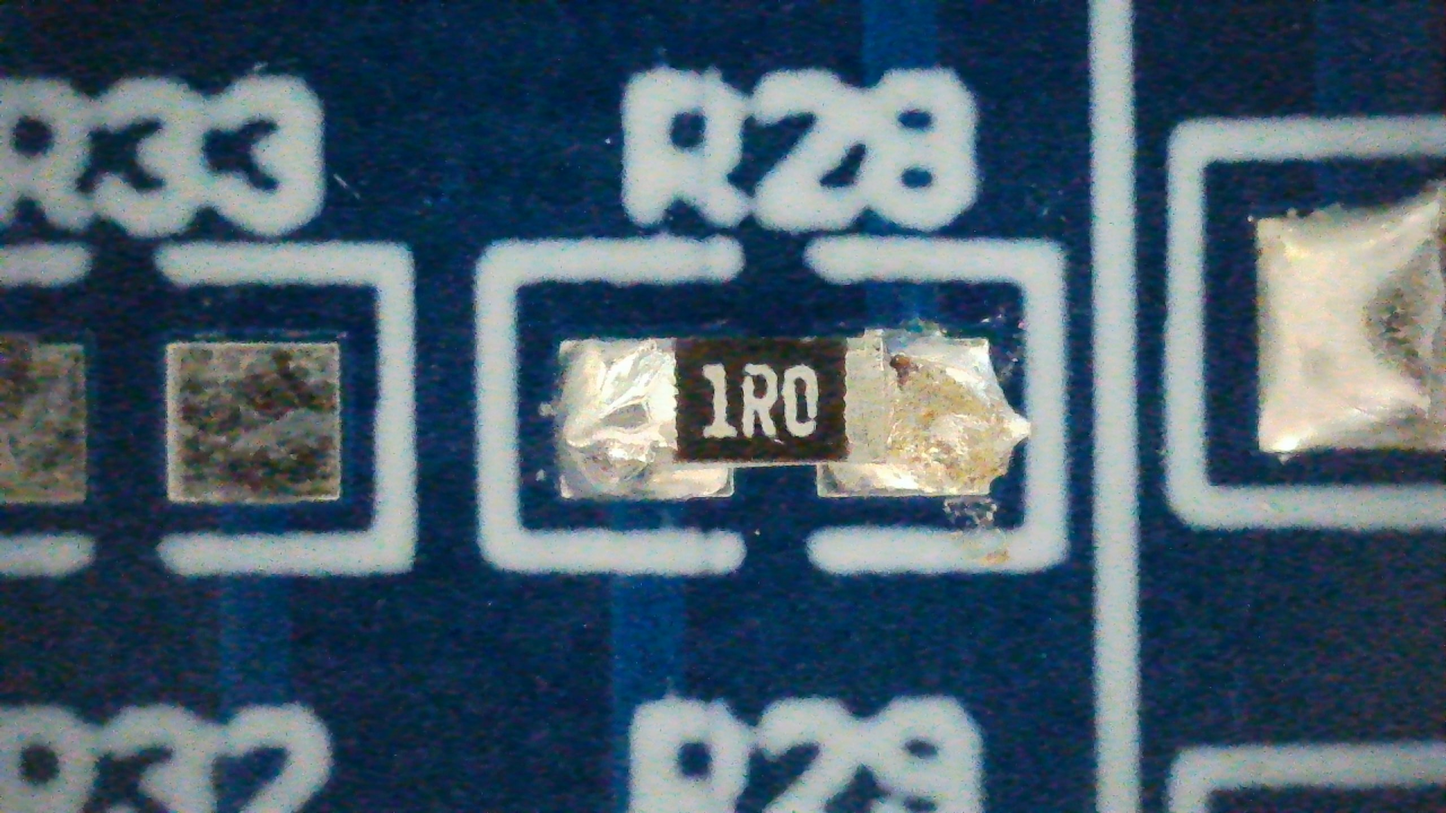OK: (561, 329, 1030, 499)
